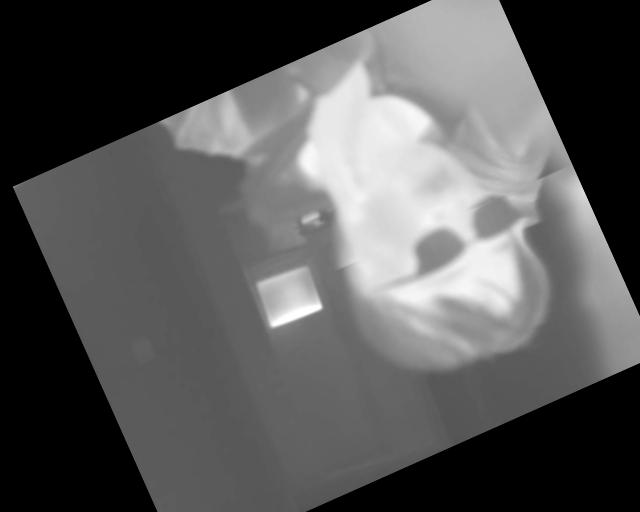face: (297, 117, 567, 405)
